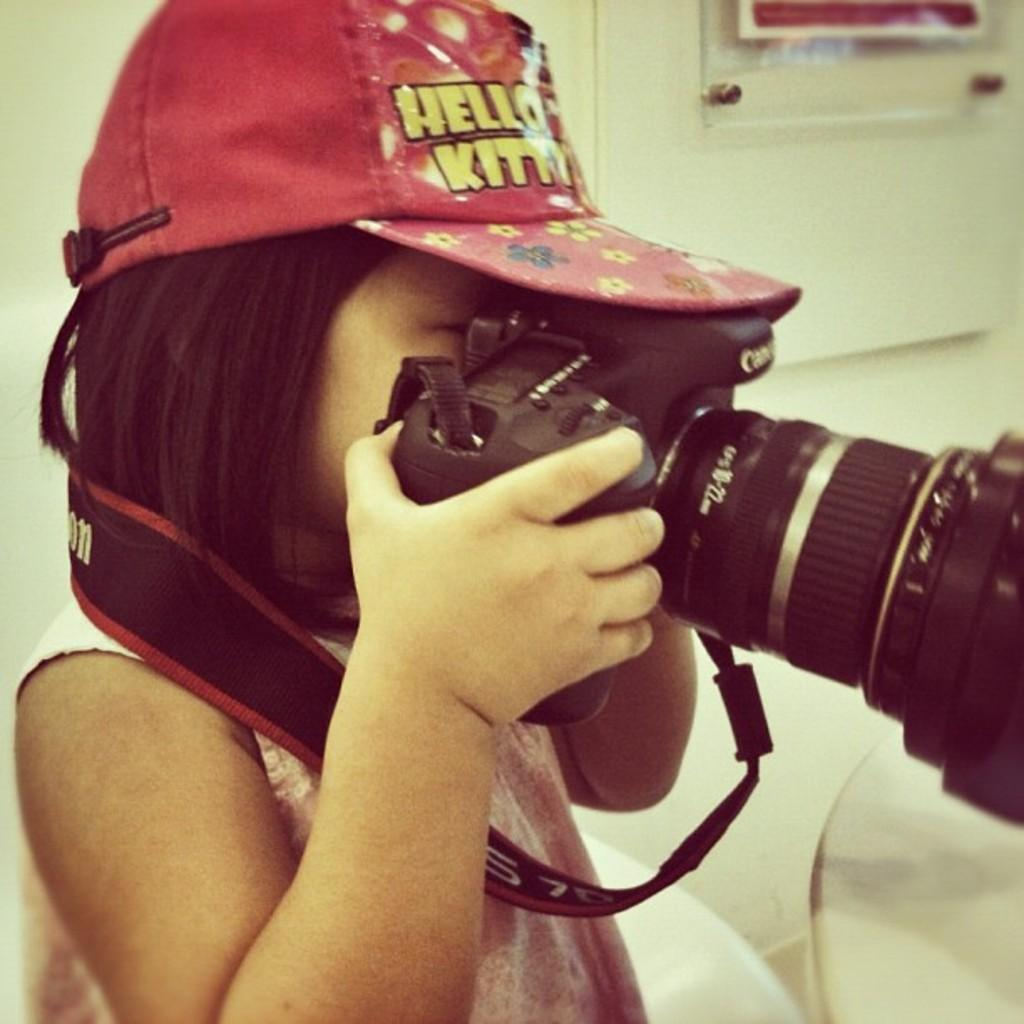Hat: (60, 0, 804, 317)
